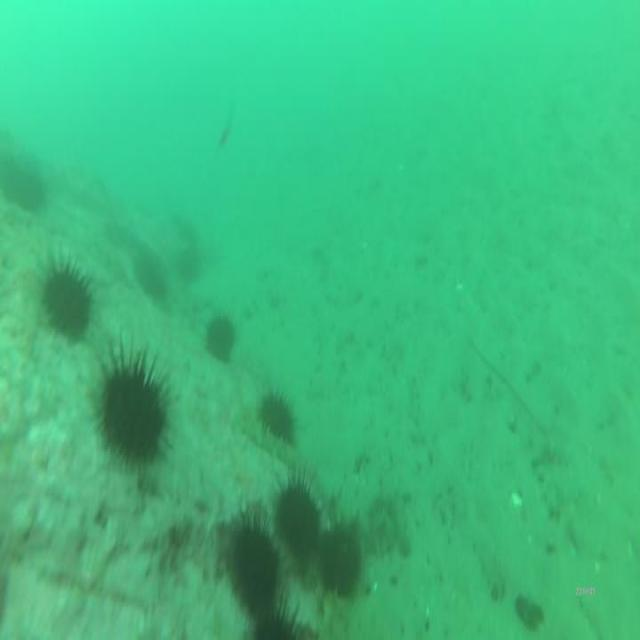echinus: (85, 335, 176, 479), (220, 509, 286, 618), (37, 252, 95, 348), (274, 478, 324, 568), (314, 521, 367, 596), (242, 603, 318, 640), (258, 387, 300, 449), (4, 160, 48, 218), (132, 242, 168, 303), (205, 308, 239, 367)
holothurian: (242, 416, 305, 472), (313, 581, 363, 640)
